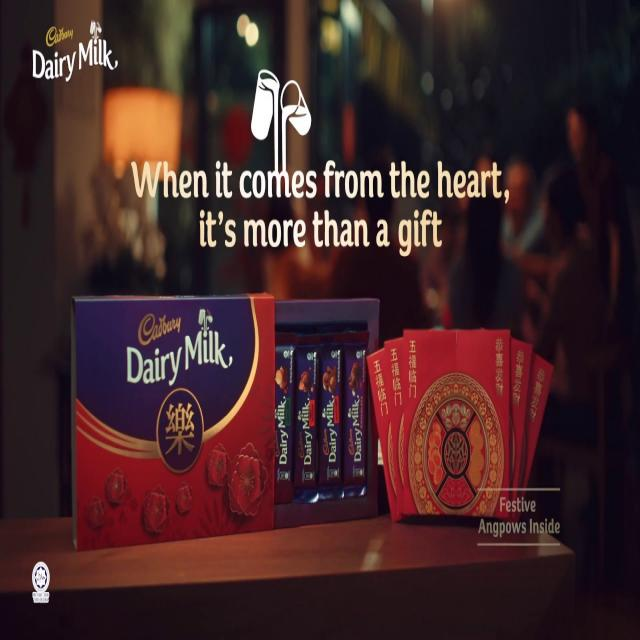cadbury: (272, 347, 295, 482), (320, 347, 342, 482), (298, 352, 318, 480), (347, 346, 366, 480)
